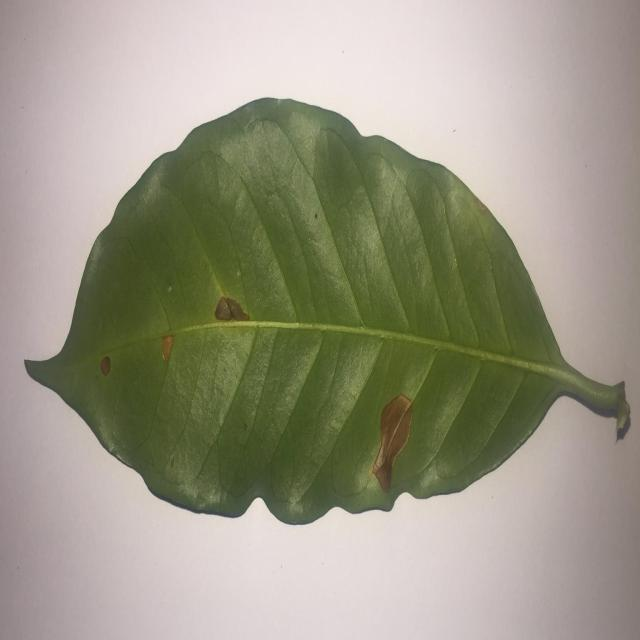Plaga-Minador: (23, 99, 632, 529)
